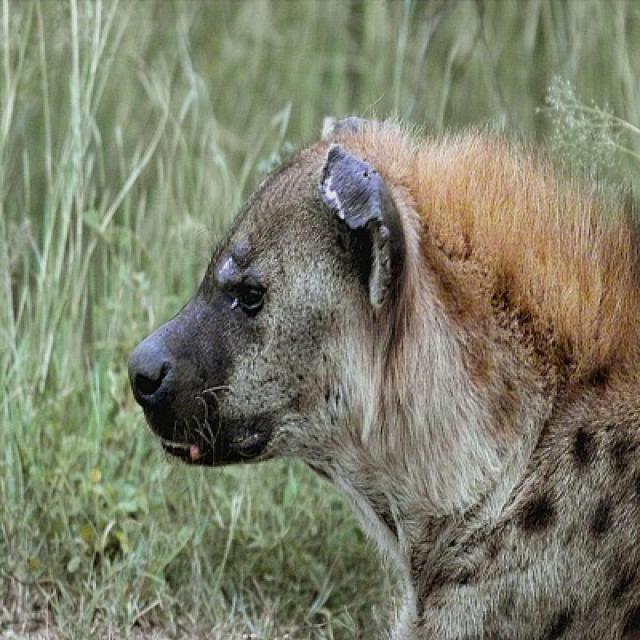hyena: (128, 117, 638, 638)
